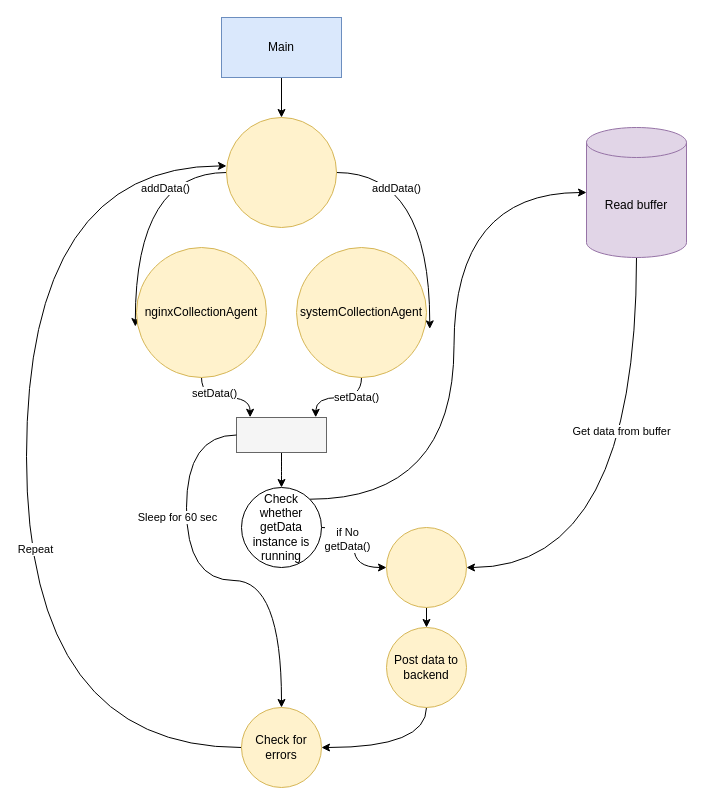
This 704x805 diagram has some shape labels left out. Here are the shapes that lost their labels. From the top down, the centre of each, then its label:
At point (281, 172): "DataCollector".
At point (281, 434): "Data Object".
At point (426, 567): "Create request body".
